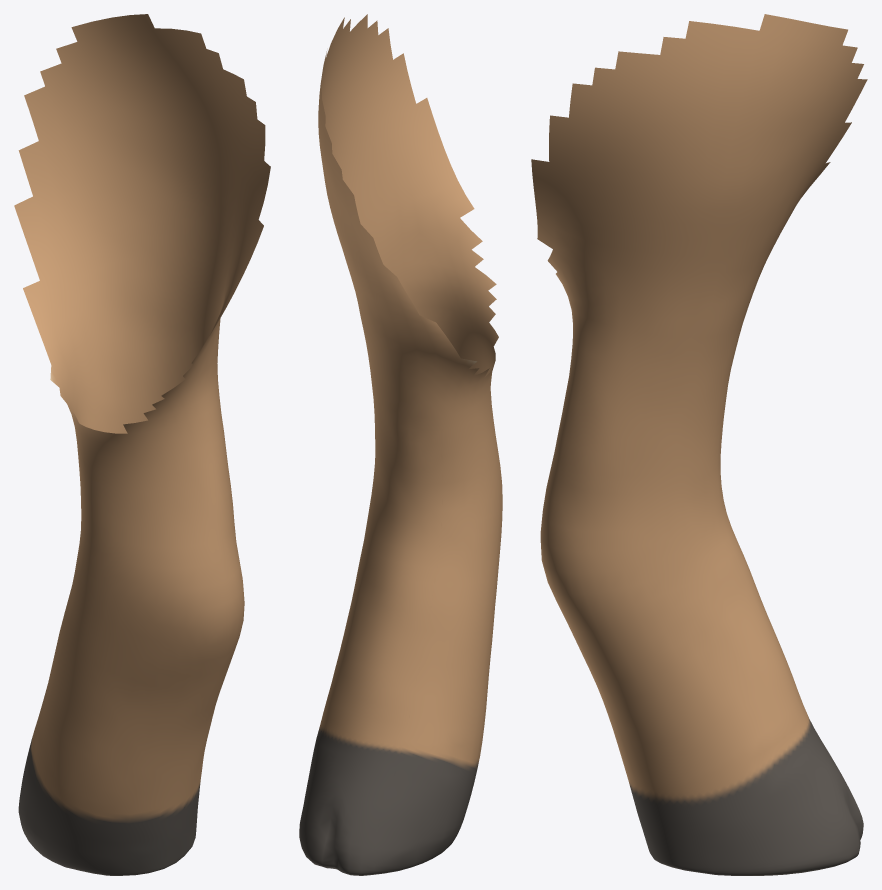
Rendered from Gompers PDI.obj.
3 renders of one model, left to right at view 1: azimuth 30°, elevation 25°; view 2: azimuth 150°, elevation 25°; view 3: azimuth 270°, elevation 25°, orthographic. The views are drawn at different scales.
Parts seen in each view (by area): view 1: Pata_delantera_Izq; view 2: Pata_delantera_Izq; view 3: Pata_delantera_Izq.
Part boxes in pixels (bbox=[...]): Pata_delantera_Izq: bbox=[14, 14, 270, 875]; Pata_delantera_Izq: bbox=[299, 14, 502, 875]; Pata_delantera_Izq: bbox=[531, 14, 867, 875].
Bounding box in the file's own units: 0.1873 × 0.9336 × 0.327.
